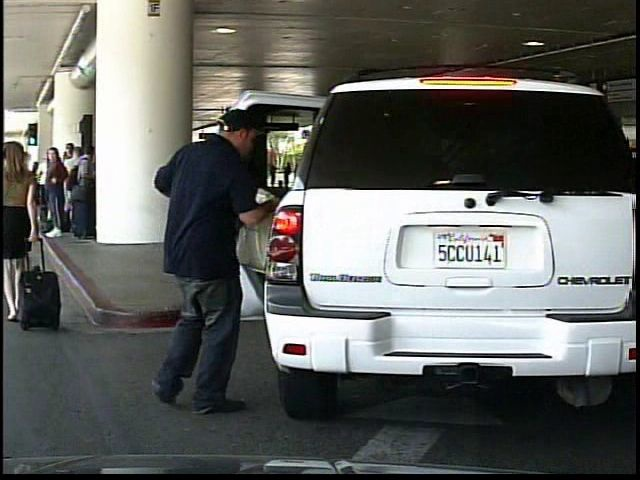person: (155, 98, 269, 426), (4, 137, 47, 332)
